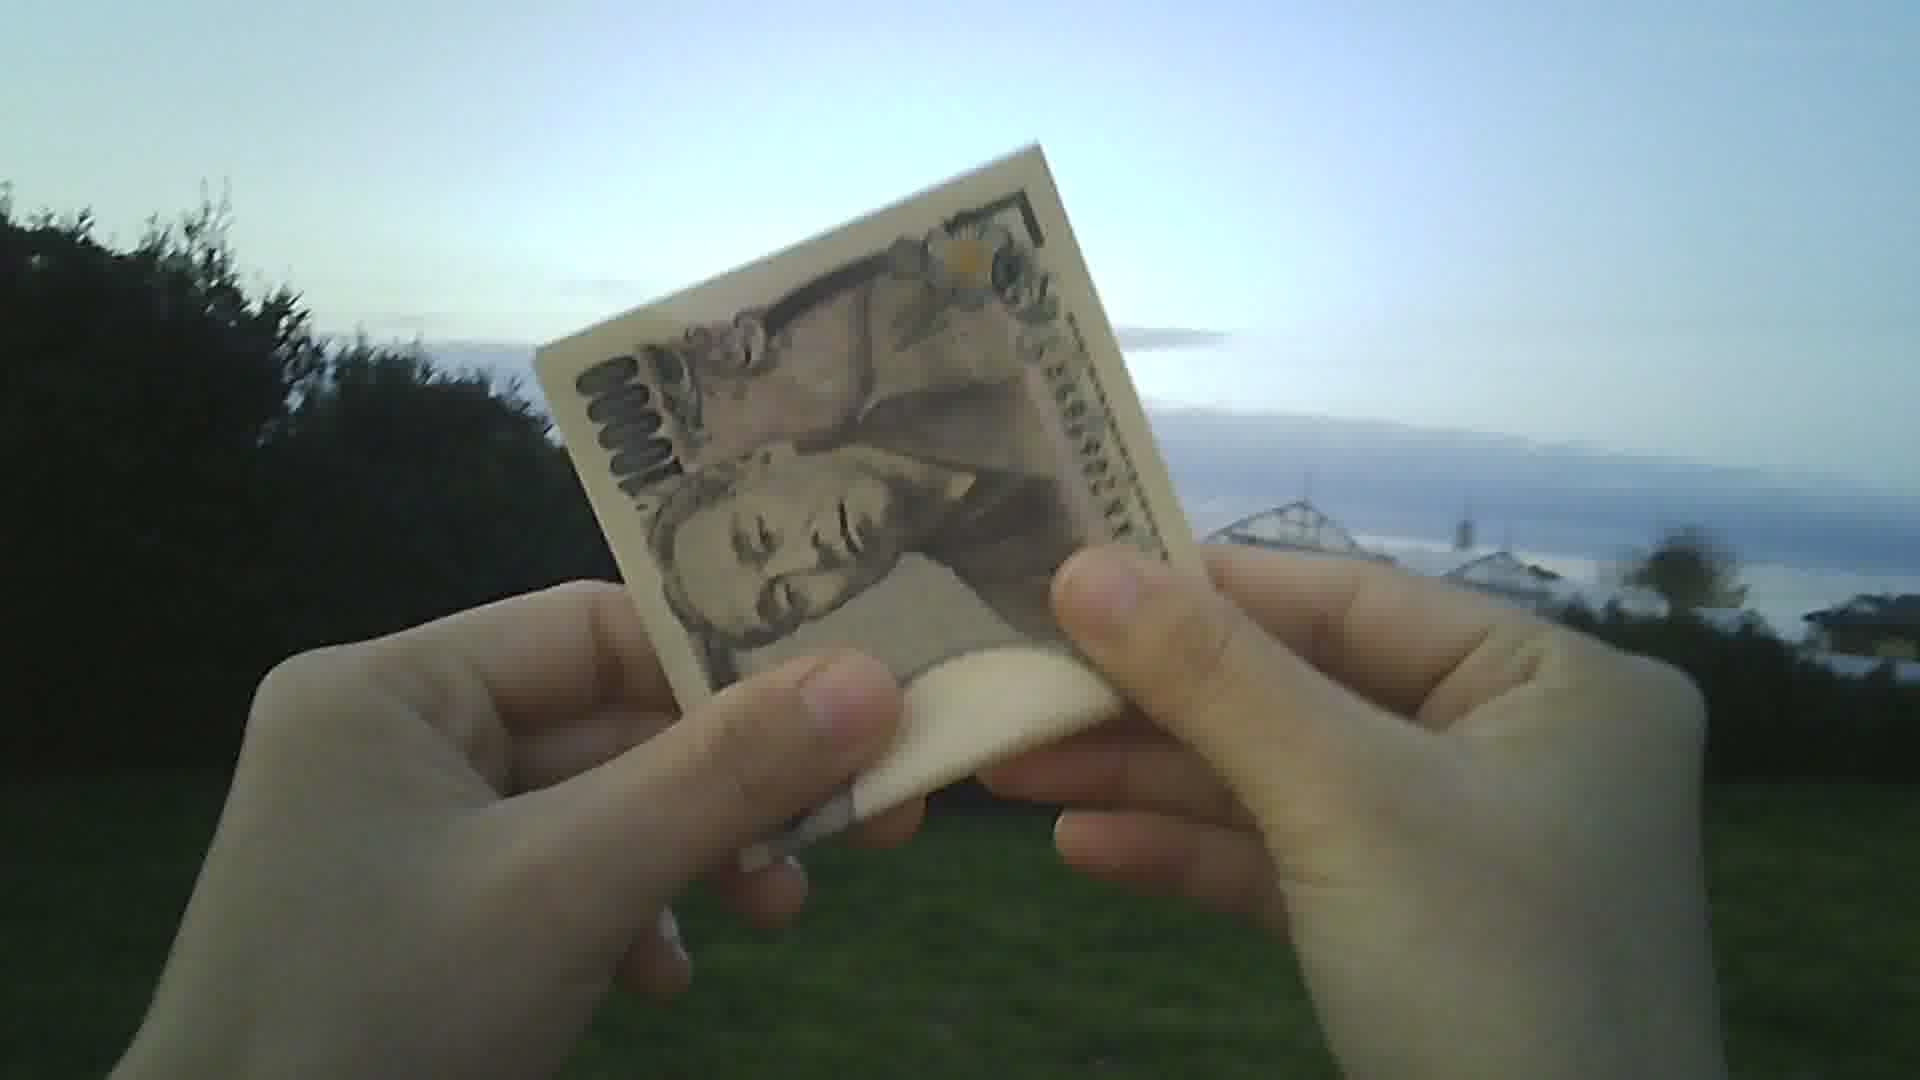10,000 Yen: (505, 146, 1266, 849)
